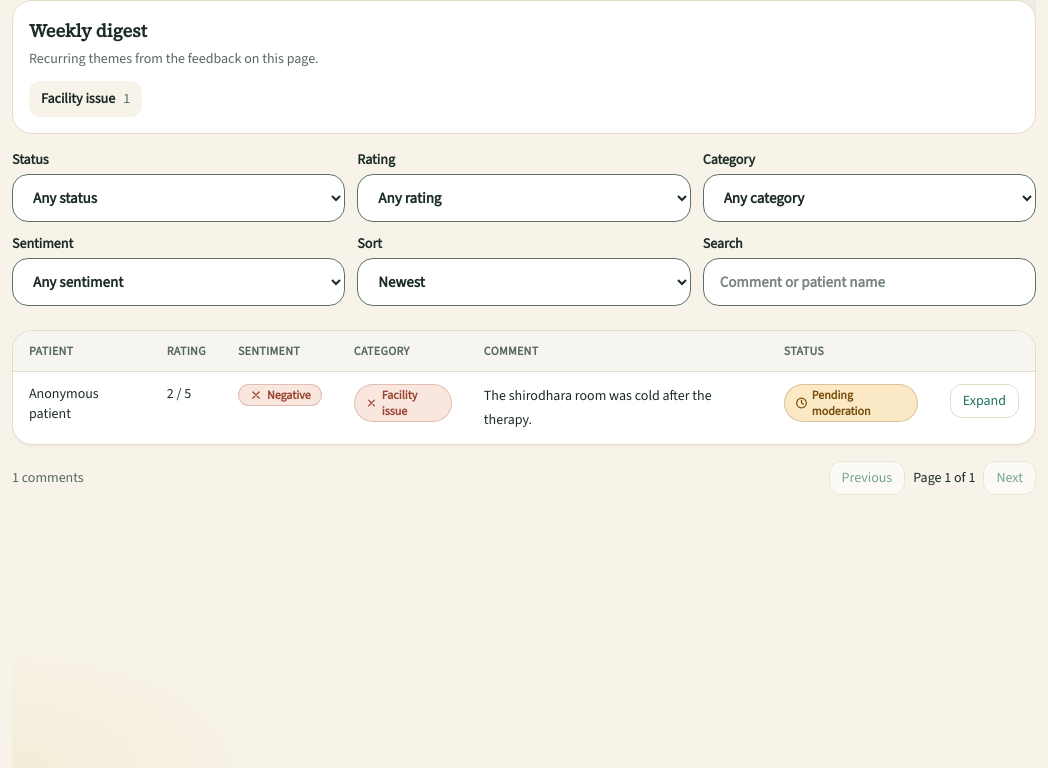
Test: FeedbackDashboardPage › shows sentiment and category as text badges
The width and height of the screenshot is (1048, 768).
Expected: the text "Negative" is shown, [238,384,322,406]
Expected: the text "Facility issue" is shown, [354,384,452,422]
Click the button named "expand feedback from anonymous patient" at (984, 401), box [950,384,1019,418]
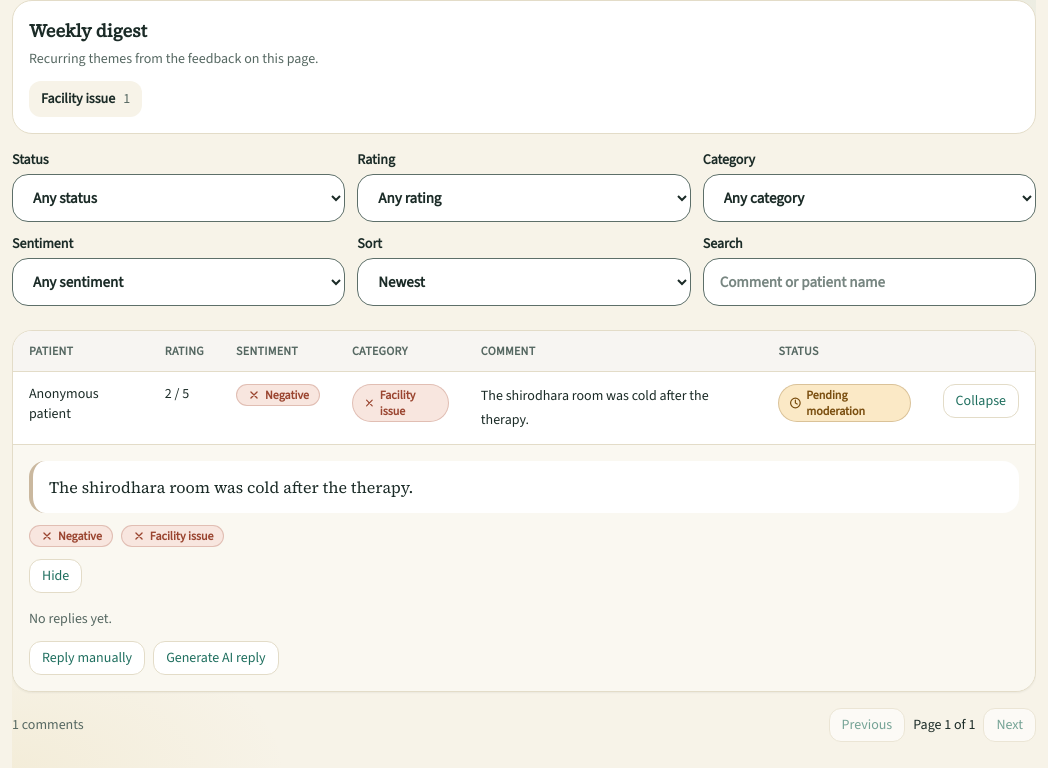
Now the text "The shirodhara room was cold after the therapy." is shown 2 times, box [481,384,746,432]; [29,461,1019,513]
Now the 2nd text "Negative" is shown, box [29,525,113,547]
Now the 2nd text "Facility issue" is shown, box [121,525,224,547]
